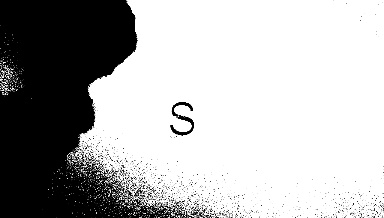S: (164, 94, 203, 141)
